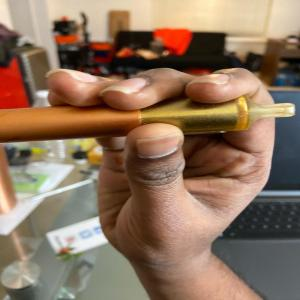Golden-E-Ciggirate: (0, 93, 295, 146)
